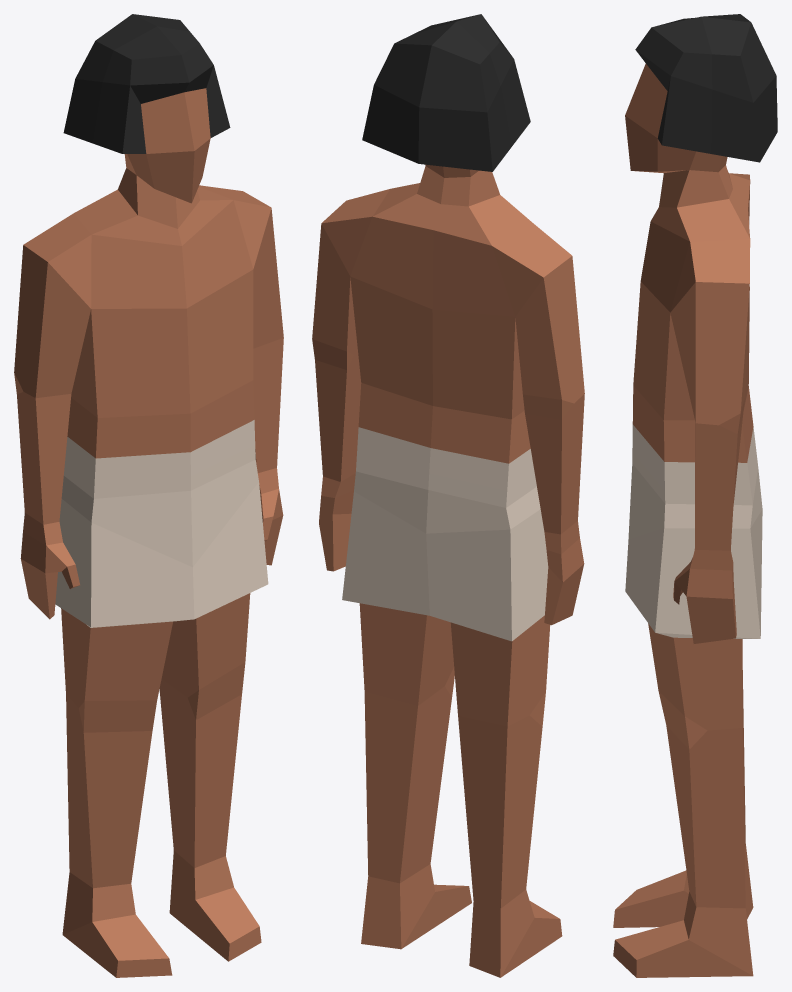
The model's file is man-egypt-worker.glb.
The picture shows the model from 3 angles, left to right: view 1: azimuth 30°, elevation 25°; view 2: azimuth 150°, elevation 25°; view 3: azimuth 270°, elevation 25°; orthographic projection.
Parts seen in each view (by area): view 1: man-egypt-worker; view 2: man-egypt-worker; view 3: man-egypt-worker.
Boxes of the visible parts, x1=… form: man-egypt-worker: x1=14, y1=14, x2=283, y2=977; man-egypt-worker: x1=312, y1=14, x2=584, y2=977; man-egypt-worker: x1=613, y1=14, x2=777, y2=977.
Bounding box in the file's own units: 0.5348 × 1.86 × 0.3004.
Materials: 1 (1 with a texture image).
